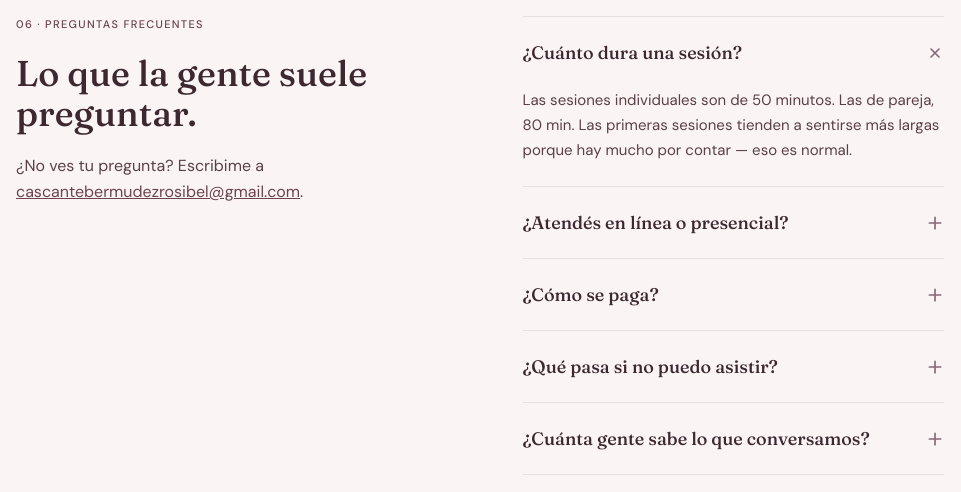
Test case: FAQ section › toggles a question on click and closes the previous one
Click the button "¿Atendés en línea o presencial?": (733, 223) x1=522 y1=187 x2=944 y2=258
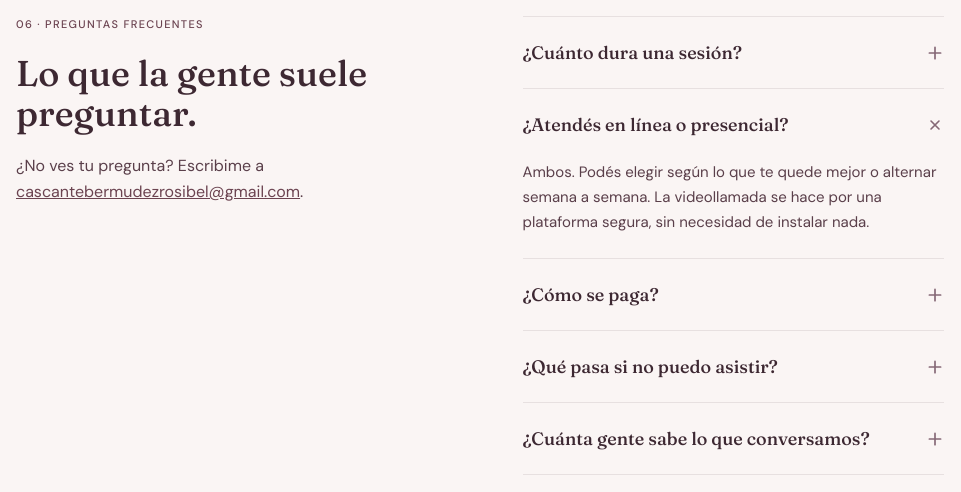
Result: the button "¿Atendés en línea o presencial?" is expanded at x1=522 y1=89 x2=944 y2=160
Result: the text "Ambos. Podés elegir según lo que te quede mejor o alternar semana a semana. La videollamada se hace por una plataforma s" is shown at x1=522 y1=162 x2=936 y2=232
Result: the button "¿Cuánto dura una sesión?" is collapsed at x1=522 y1=17 x2=944 y2=88
